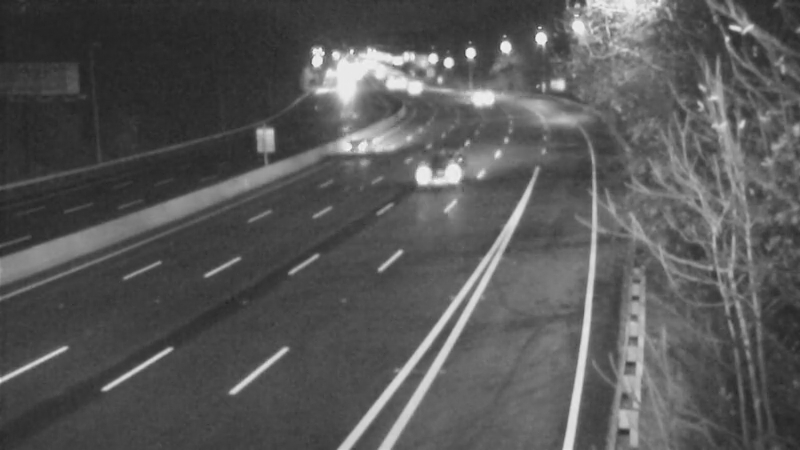vehicle: (391, 132, 471, 212), (387, 62, 437, 112), (454, 72, 504, 122), (333, 114, 383, 164)
